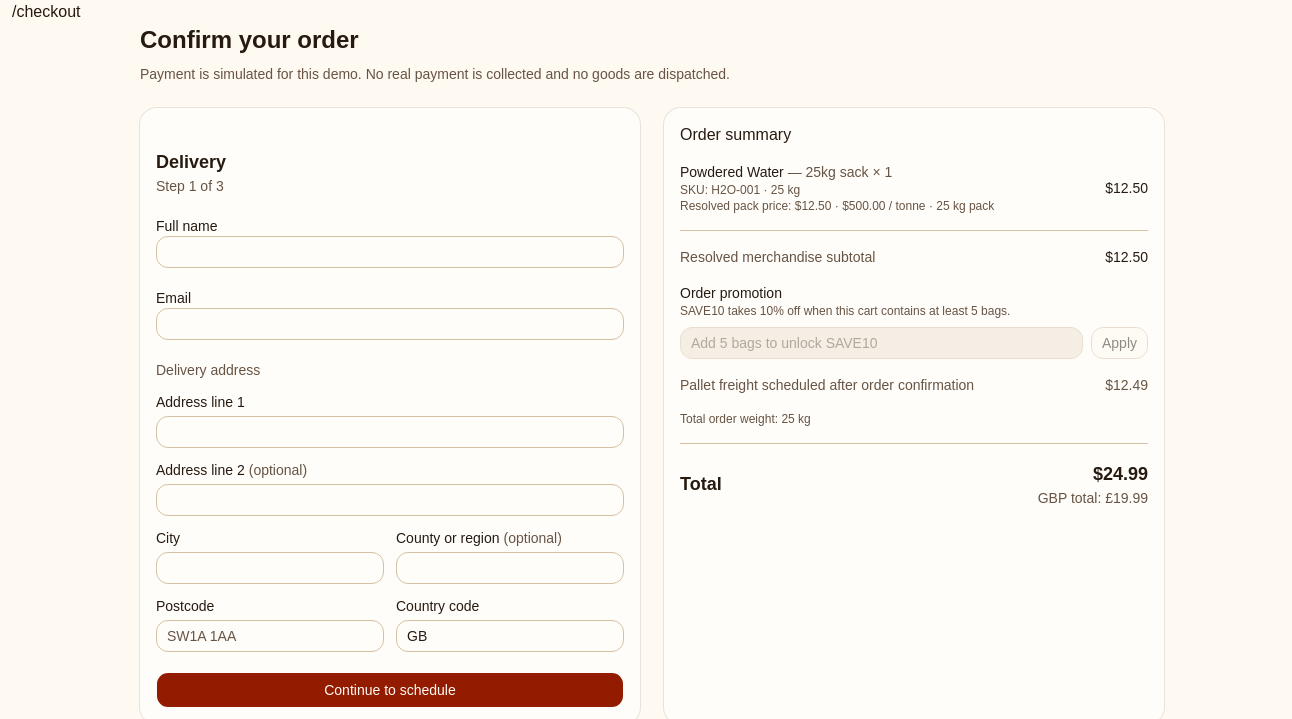
it: Checkout trade-credit payment method › keeps trade credit card-only for anonymous buyers
The width and height of the screenshot is (1292, 719).
Type "Checkout Test" into the field labelled "Full name" at (390, 252), box 156,236 -> 624,268
Type "checkout@example.test" into the field labelled "Email" at (390, 324), box 156,308 -> 624,340
Type "1 Test Street" into the field labelled "Address line 1" at (390, 432), box 156,416 -> 624,448
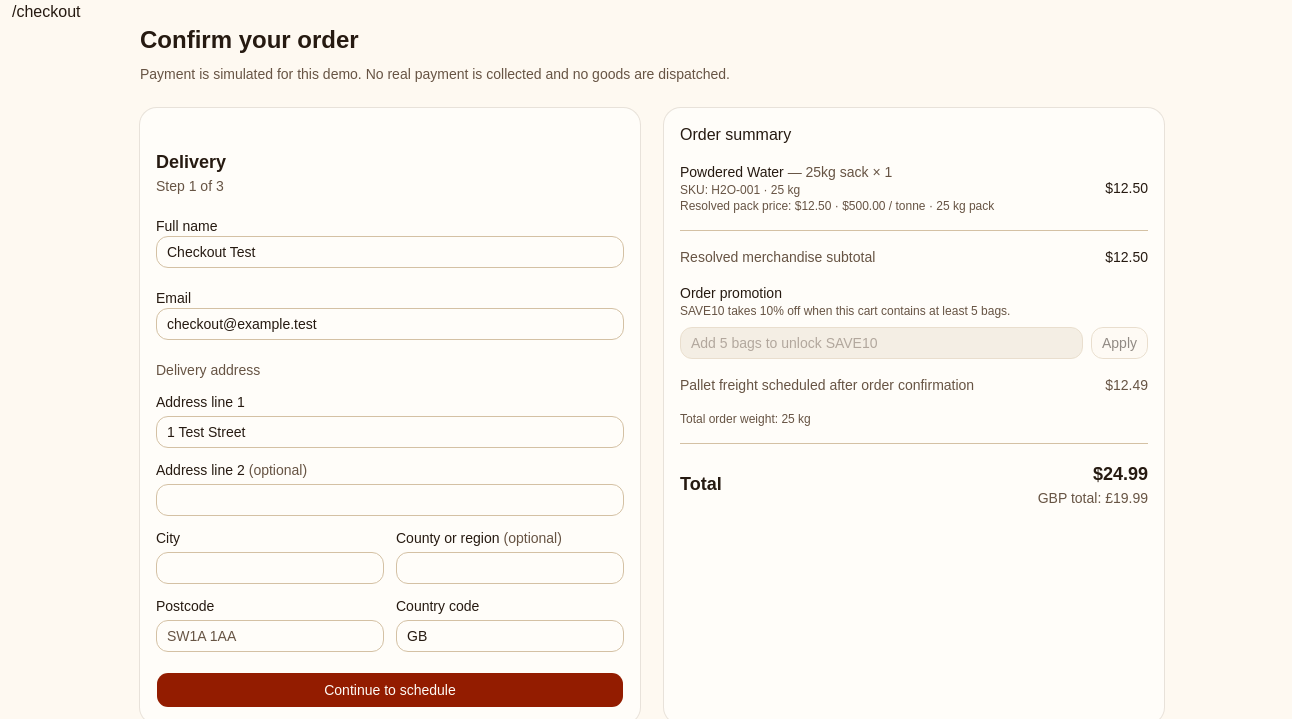
Type "Testville" into the field labelled "City" at (270, 568), box 156,552 -> 384,584
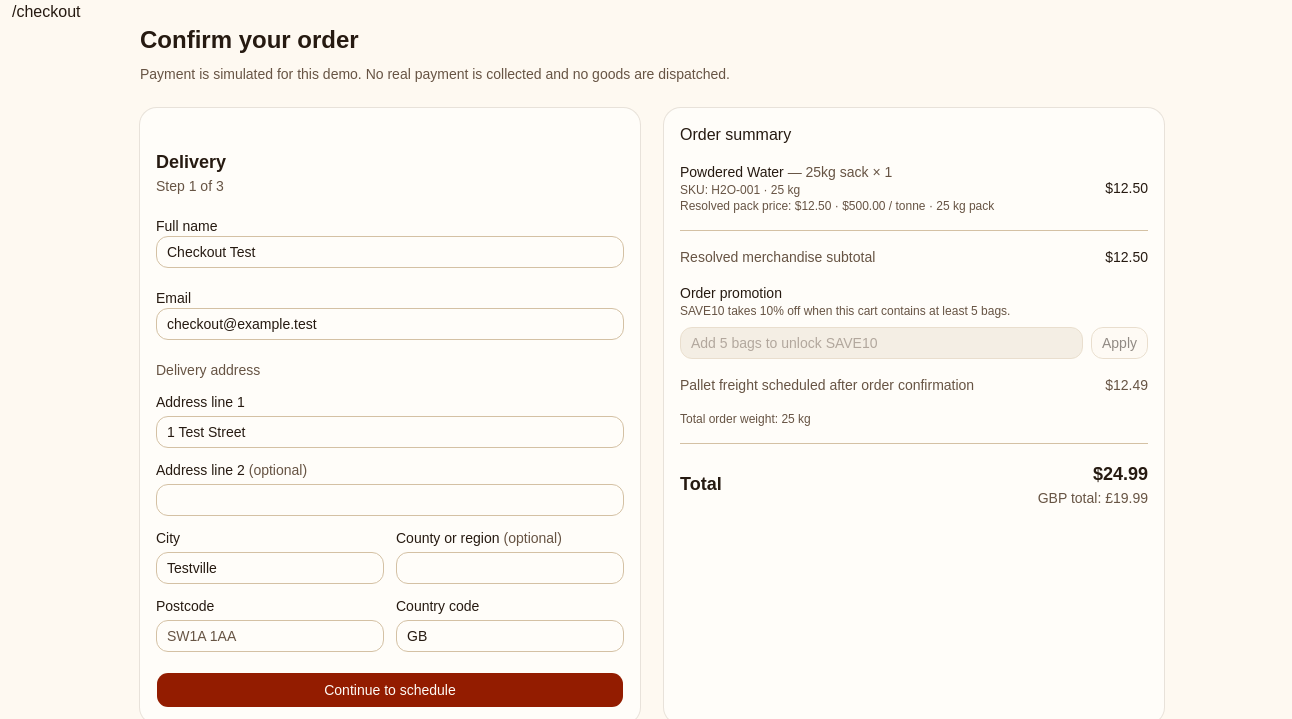
Type "TE1 1ST" into the field labelled "Postcode" at (270, 636), box 156,620 -> 384,652
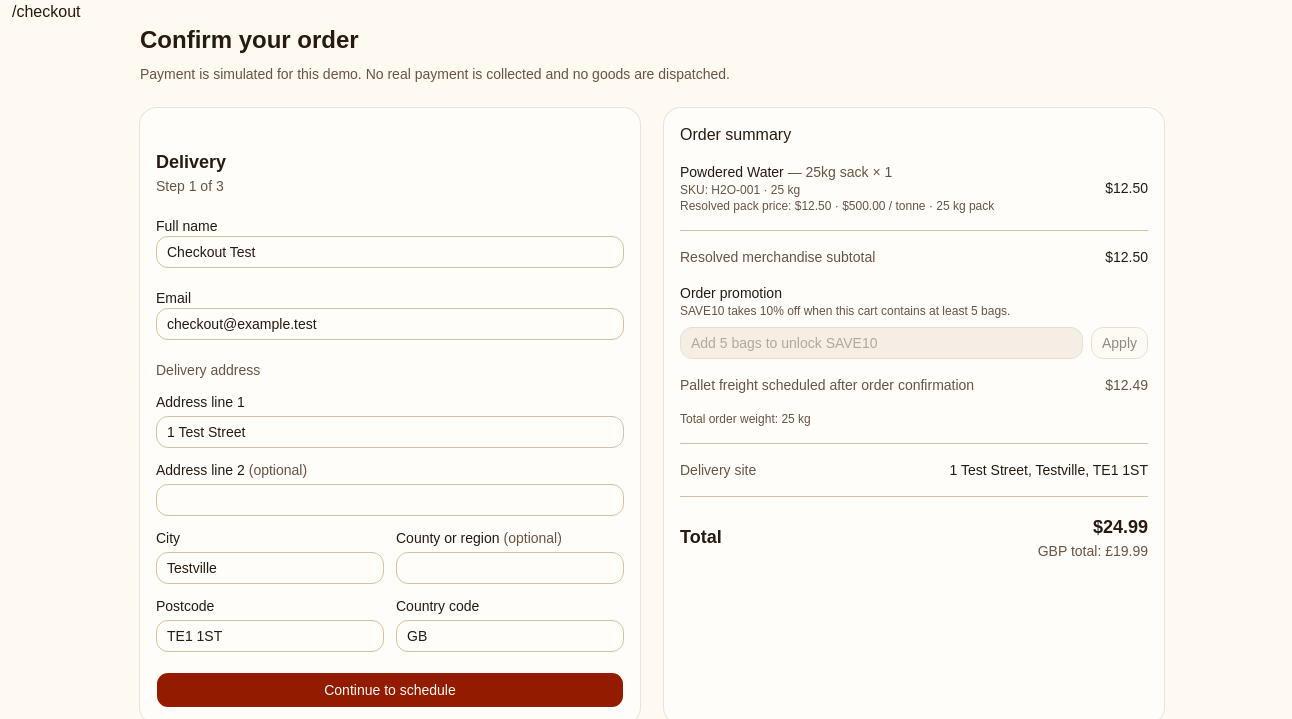
Click the button "Continue to schedule" at (390, 690), box 156,672 -> 624,708
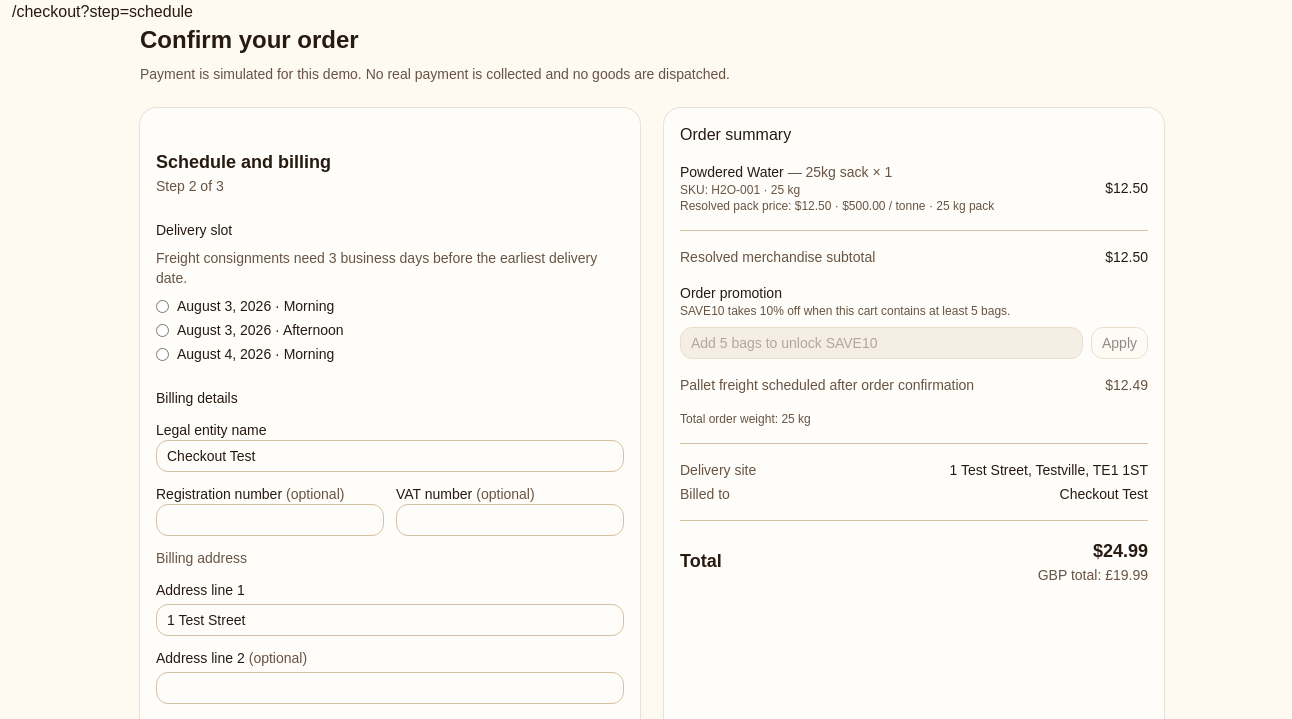
Expected: the heading "Schedule and billing" is shown, 156,152 -> 331,172
Click the radio button labelled "August 3, 2026 · Morning" at (162, 306), box 156,300 -> 169,312
(page scrolled)
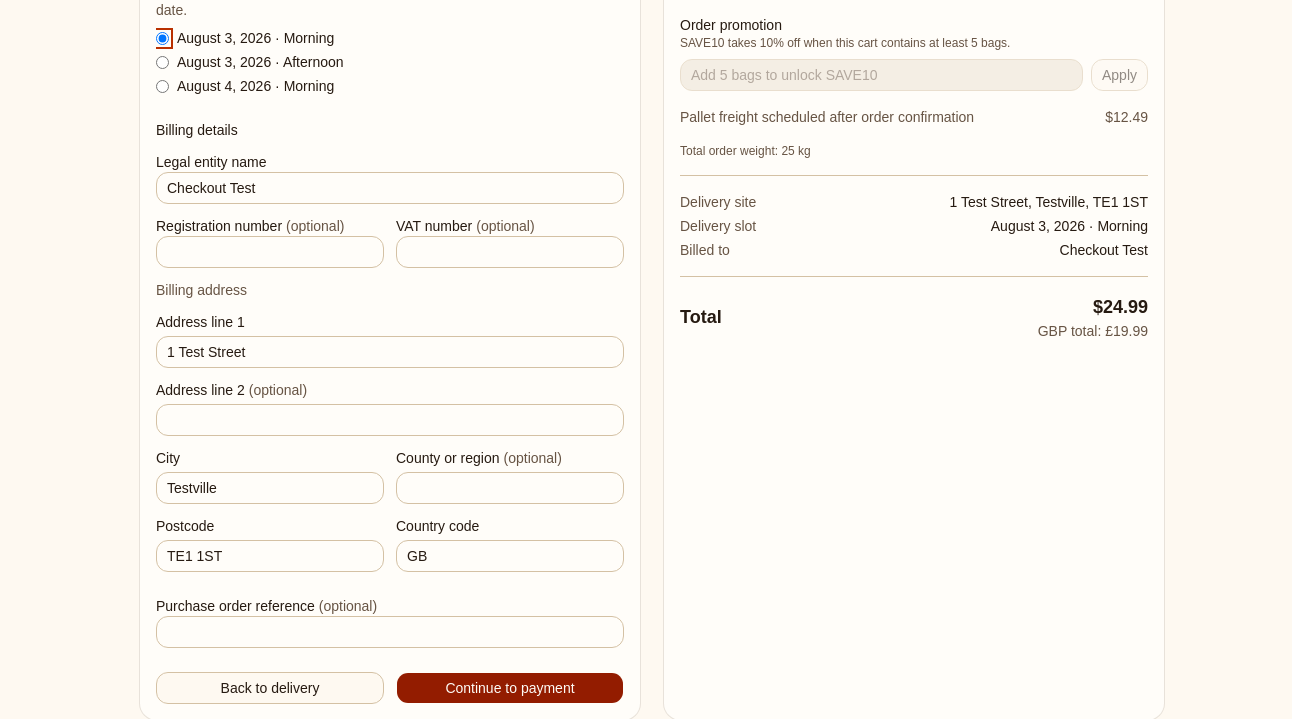
Click the button "Continue to payment" at (510, 688), box 396,672 -> 624,704
(page scrolled)
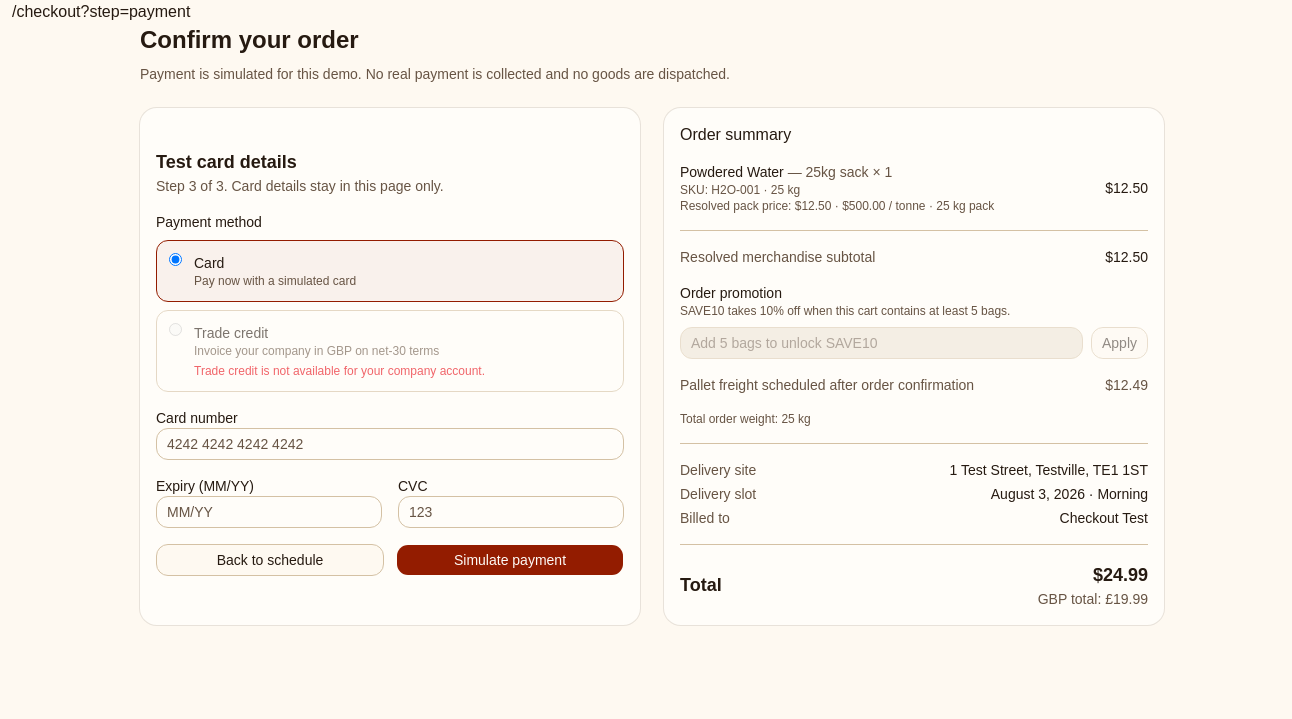
Expected: the heading "Test card details" is shown, 156,152 -> 297,172
Expected: the radio button labelled "Trade credit" is disabled, 169,323 -> 182,336
Expected: the text "Trade credit is not available for your company account." is shown, 194,363 -> 485,379
